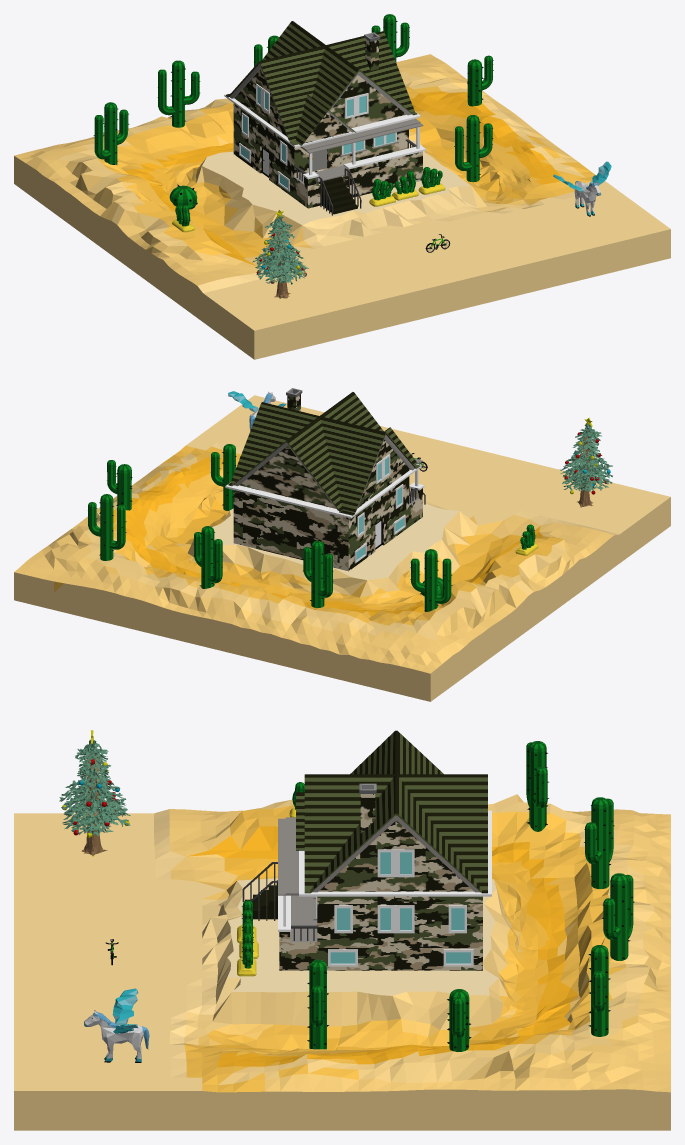
The picture shows the model from 3 angles, top to bottom: view 1: azimuth 30°, elevation 25°; view 2: azimuth 150°, elevation 25°; view 3: azimuth 270°, elevation 25°; orthographic projection. The views are drawn at different scales.
Visible parts, largest first — view 1: Cube.001, Cube.002, OBJRANDOM_CHRISTMAS_TREE, Cylinder.037, Cylinder.044, Cylinder.045, Cylinder.038, ANIMAL_PEGASO, Cylinder.042, Cylinder.039, Cylinder.041, Sphere.023 (+1 smaller); view 2: Cube.001, Cube.002, OBJRANDOM_CHRISTMAS_TREE, Cylinder.042, Cylinder.045, Cylinder.044, Cylinder.043, Cylinder.037, Cylinder.038, ANIMAL_PEGASO; view 3: Cube.001, Cube.002, OBJRANDOM_CHRISTMAS_TREE, Cylinder.043, Cylinder.044, ANIMAL_PEGASO, Cylinder.045, Cylinder.042, Cylinder.037, Cylinder.038, Cylinder.041.
Part boxes in pixels (<box>): Cube.001: <box>14,54,670,359</box>; Cube.002: <box>224,21,425,215</box>; OBJRANDOM_CHRISTMAS_TREE: <box>252,210,308,298</box>; Cylinder.037: <box>454,115,493,182</box>; Cylinder.044: <box>157,60,200,127</box>; Cylinder.045: <box>93,102,129,164</box>; Cylinder.038: <box>467,55,493,106</box>; ANIMAL_PEGASO: <box>553,161,611,216</box>; Cylinder.042: <box>371,14,409,62</box>; Cylinder.039: <box>369,179,395,206</box>; Cylinder.041: <box>418,167,445,194</box>; Sphere.023: <box>169,184,197,209</box>; Cube.001: <box>14,395,670,701</box>; Cube.002: <box>225,388,425,571</box>; OBJRANDOM_CHRISTMAS_TREE: <box>559,417,612,507</box>; Cylinder.042: <box>88,494,126,560</box>; Cylinder.045: <box>410,549,452,611</box>; Cylinder.044: <box>303,540,333,607</box>; Cylinder.043: <box>193,526,222,588</box>; Cylinder.037: <box>211,444,240,510</box>; Cylinder.038: <box>107,460,132,510</box>; ANIMAL_PEGASO: <box>228,391,285,430</box>; Cube.001: <box>14,794,670,1130</box>; Cube.002: <box>242,730,491,970</box>; OBJRANDOM_CHRISTMAS_TREE: <box>59,730,130,856</box>; Cylinder.043: <box>602,873,634,960</box>; Cylinder.044: <box>584,797,614,888</box>; ANIMAL_PEGASO: <box>84,988,149,1062</box>; Cylinder.045: <box>526,741,548,831</box>; Cylinder.042: <box>588,945,610,1036</box>; Cylinder.037: <box>307,959,328,1049</box>; Cylinder.038: <box>447,989,471,1051</box>; Cylinder.041: <box>237,933,256,976</box>.
Bounding box in the file's own units: 4002 × 1653 × 4001.
Materials: 34 (5 with a texture image).
